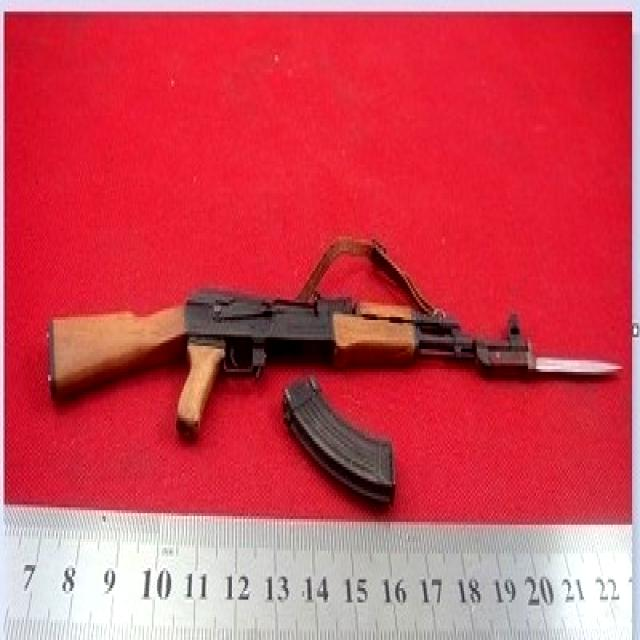ak: (40, 280, 621, 442)
